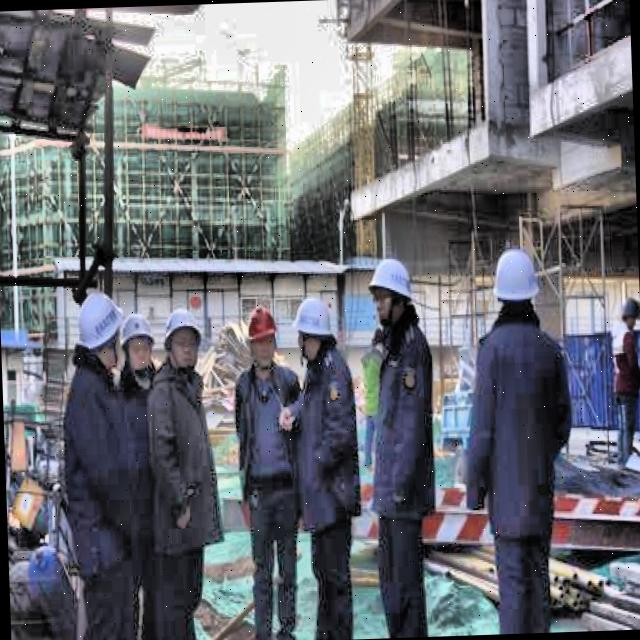helmet: (74, 287, 123, 368), (291, 292, 336, 368), (490, 248, 540, 316), (366, 256, 416, 323), (160, 306, 202, 375), (115, 312, 156, 372), (244, 305, 278, 368), (620, 292, 640, 339)
